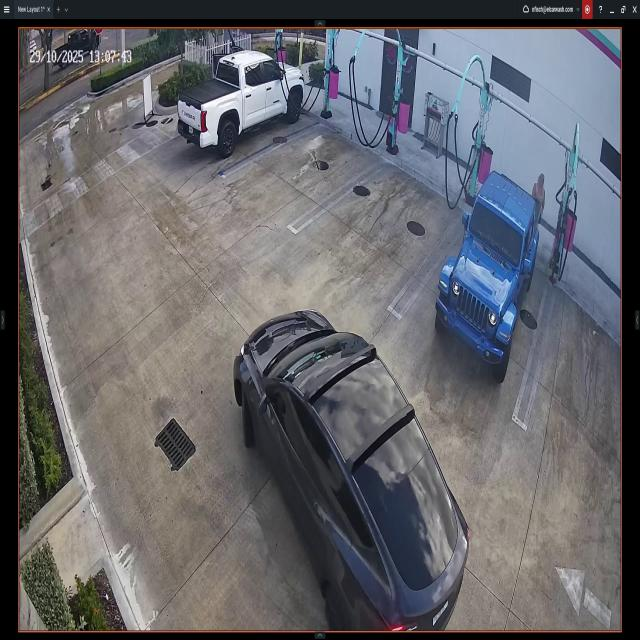Car: (237, 297, 468, 633), (438, 172, 542, 380), (179, 55, 304, 157)
